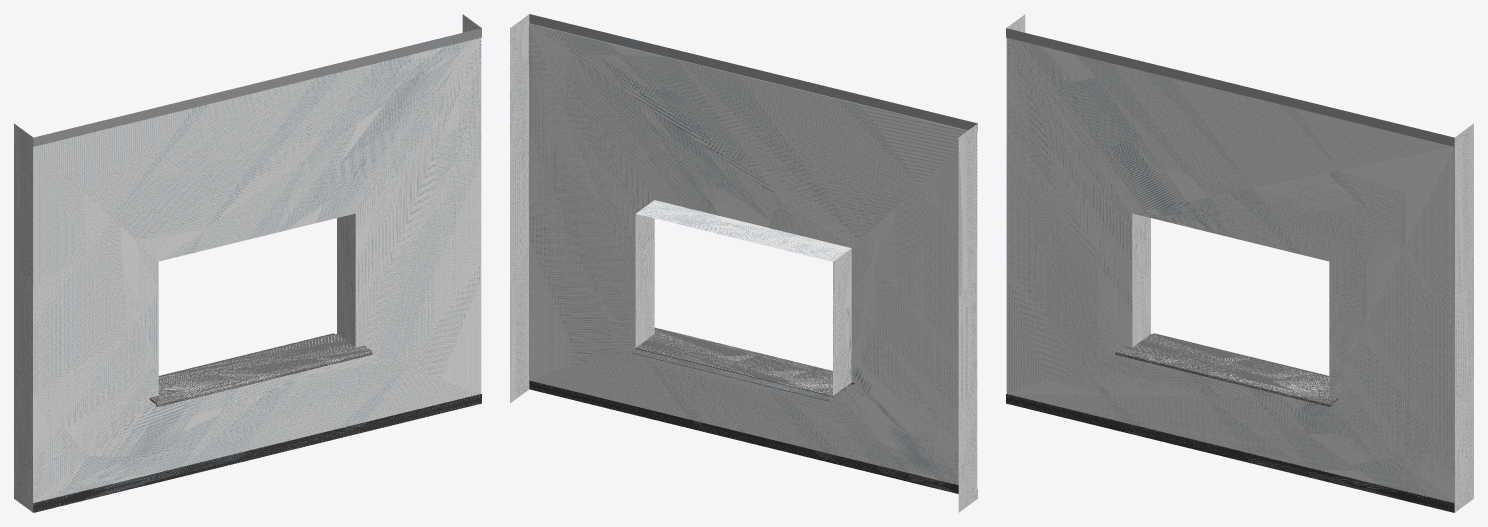
The model's file is WindowBlock_os_plinth_[500x400]_220x143x[090].dae.
3 renders of one model, left to right at view 1: azimuth 30°, elevation 25°; view 2: azimuth 150°, elevation 25°; view 3: azimuth 330°, elevation 25°, orthographic.
Parts seen in each view (by area): view 1: group_1 (×4), group_2; view 2: group_1 (×4), group_2 (×2); view 3: group_1 (×4), group_2.
Part boxes in pixels (x1,y1,x2,y2): group_1 (×4): (14,14,481,512); group_2: (149,334,372,406); group_1 (×4): (510,14,977,512); group_2 (×2): (632,327,854,401); group_1 (×4): (1006,14,1473,512); group_2: (1115,334,1337,406).
Bounding box in the file's own units: 197 × 23.03 × 157.
